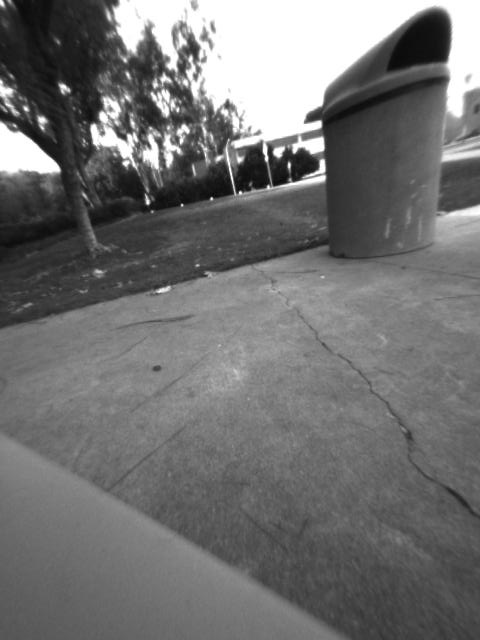trashcan: (320, 4, 460, 261)
